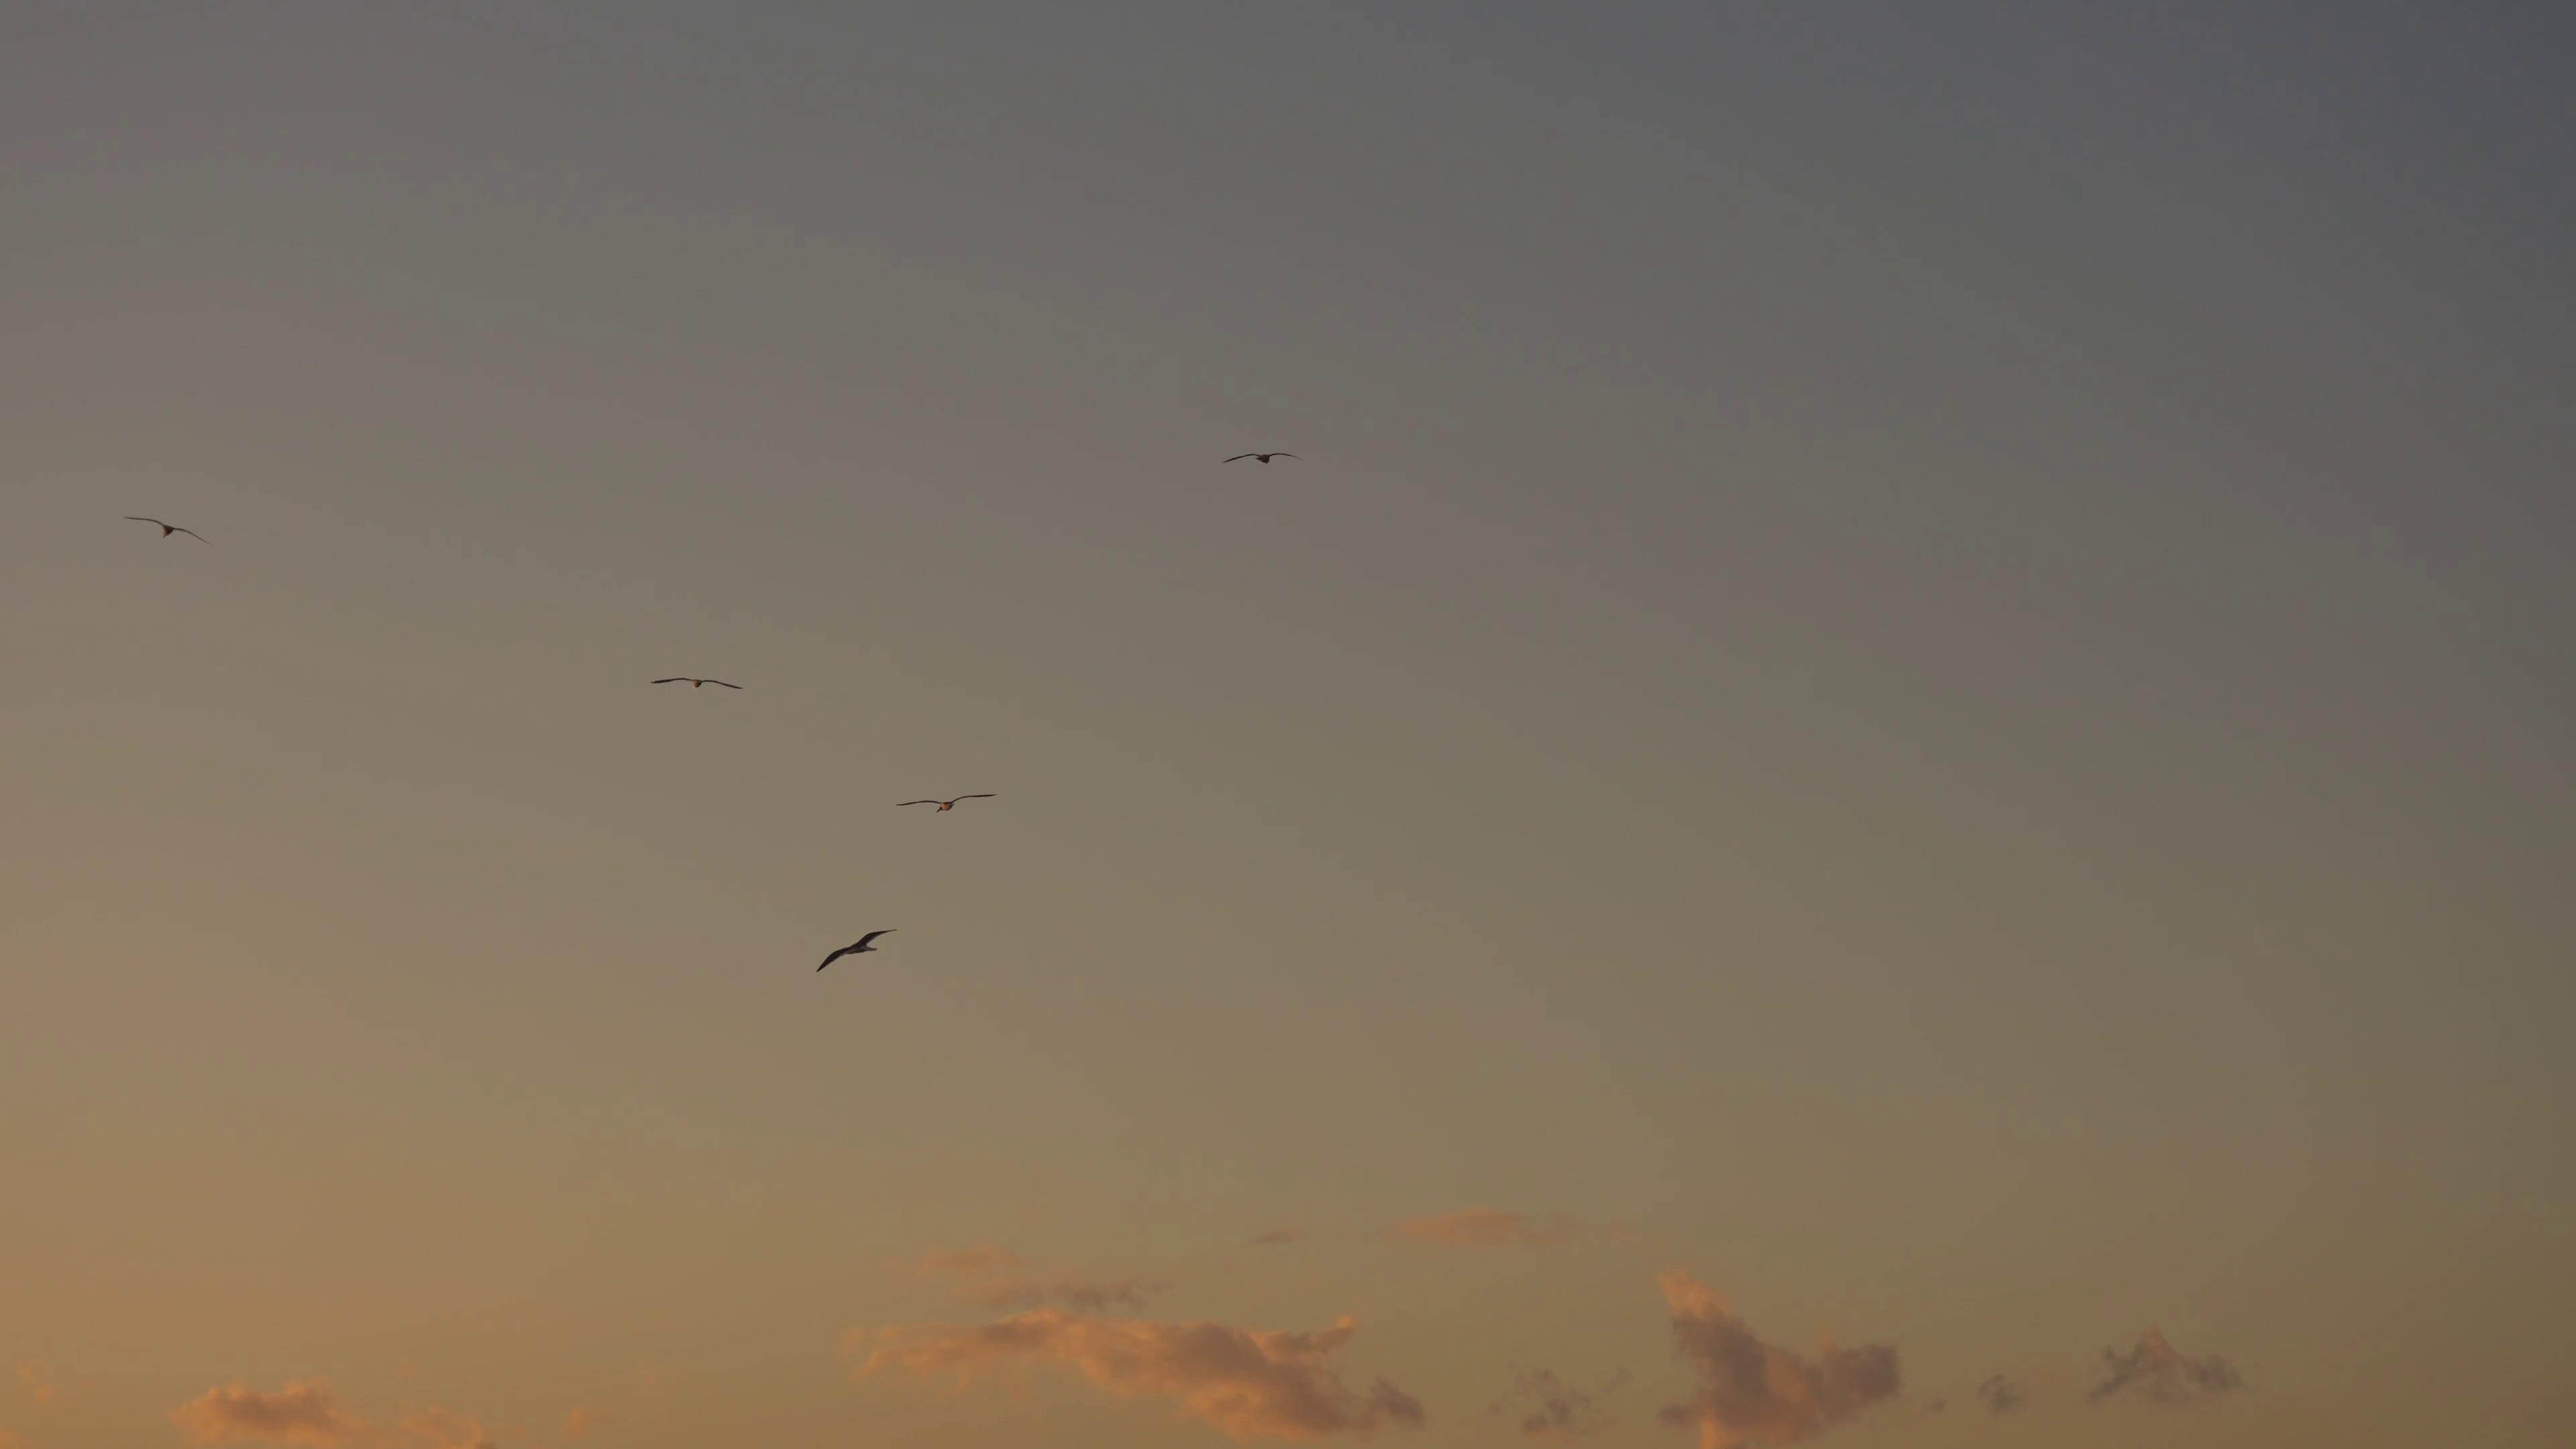bird: (817, 927, 897, 975), (126, 511, 209, 547), (649, 674, 741, 694), (895, 794, 994, 810), (1221, 453, 1300, 465)
